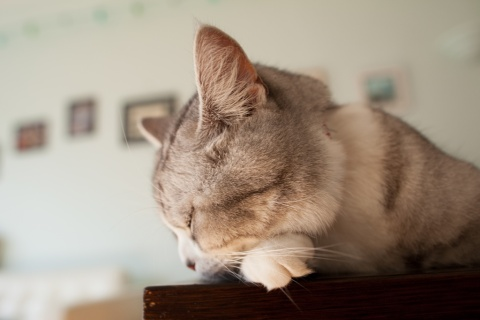Cat: (117, 20, 480, 315)
